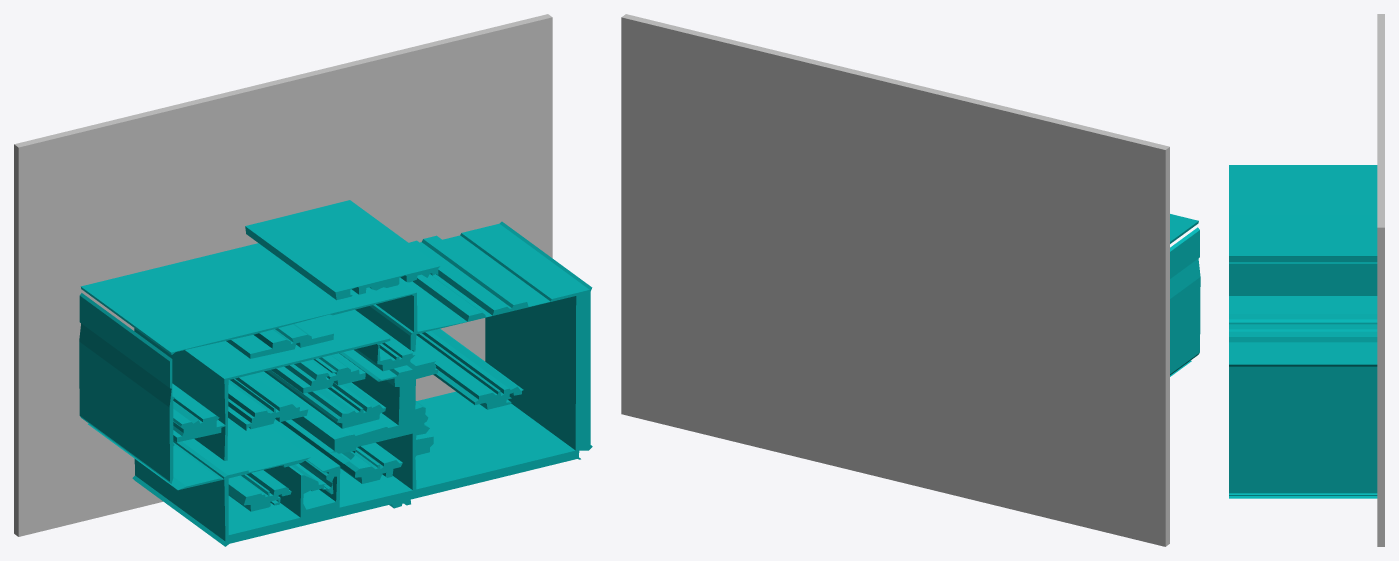
3 views of the same model, side by side, from view 1: azimuth 30°, elevation 25°; view 2: azimuth 150°, elevation 25°; view 3: azimuth 270°, elevation 25° (orthographic). The views are drawn at different scales.
Parts seen in each view (by area): view 1: world; view 2: world; view 3: world.
Part boxes in pixels (box(x1,y1,x2,y2)): world: box(14, 14, 592, 546); world: box(621, 14, 1200, 546); world: box(1229, 14, 1384, 546).
Bounding box in the file's own units: 10.23 × 7.13 × 3.15.
